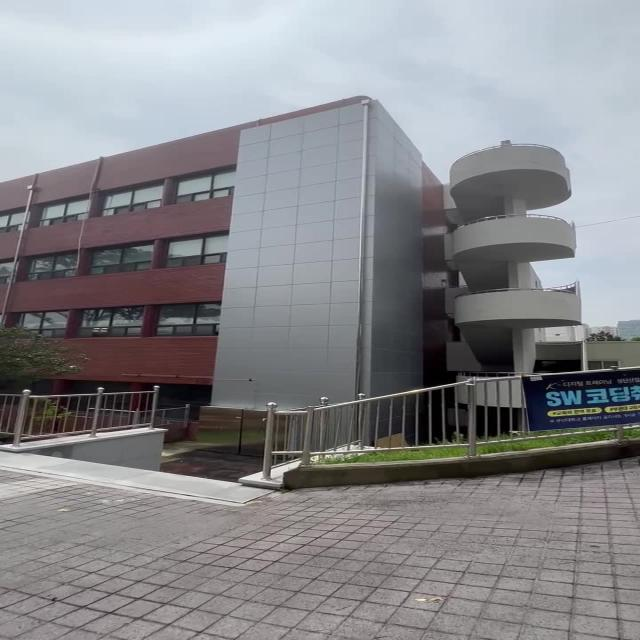building: (34, 109, 597, 368)
